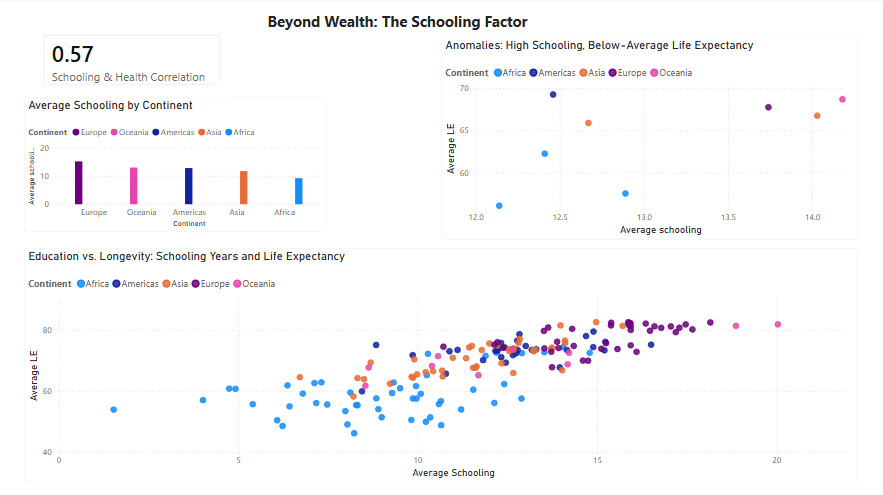

What the dashboard file says about the page in this screenshot:
{"tool":"powerbi","page":{"name":"Page 3","canvas":[1280,720],"ordinal":2},"visuals":[{"type":"scatterChart","title":"Education vs. Longevity: Schooling Years and Life Expectancy","fields":{"X":["Avg(v_Fact_LifeExpectancy.Schooling)"],"Y":["Avg(v_Fact_LifeExpectancy.Life_Expectancy)"],"Category":["v_Dim_Geography.Country"],"Series":["v_Dim_Geography.Continent"]},"box":[38.9,360,1200,338],"z":0},{"type":"scatterChart","title":"Anomalies: High Schooling, Below-Average Life Expectancy","fields":{"X":["Sum(v_Dim_Anomalies_schooling.avg_sch)"],"Y":["Sum(v_Dim_Anomalies_schooling.avg_life_expectancy)"],"Category":["v_Dim_Anomalies_schooling.country"],"Series":["v_Dim_Geography.Continent"]},"box":[639.4,56.2,601,292],"z":1000},{"type":"clusteredColumnChart","title":"Average Schooling by Continent ","fields":{"Category":["v_Dim_Geography.Continent Hierarchy.Continent"],"Y":["_Measure Bank.Global_avg_schooling"],"Series":["v_Dim_Geography.Continent Hierarchy.Continent"]},"box":[38.9,142.6,436.3,194.4],"z":2000},{"type":"textbox","box":[361.4,14.4,430.6,41.8],"z":3000},{"type":"cardVisual","fields":{"Data":["_Measure Bank.Schooling & Health Correlation"]},"box":[49,36,289.4,106.6],"z":4000}]}

Visuals, with their boxes in screenshot pixels (x1, y1, x2, y2), scaled from the page's 1280x720 canvas onto the 883x495 screenshot:
"Education vs. Longevity: Schooling Years and Life Expectancy" scatterChart: [27, 248, 855, 480]
"Anomalies: High Schooling, Below-Average Life Expectancy" scatterChart: [441, 39, 856, 239]
"Average Schooling by Continent " clusteredColumnChart: [27, 98, 328, 232]
textbox: [249, 10, 546, 39]
cardVisual - _Measure Bank.Schooling & Health Correlation: [34, 25, 233, 98]
